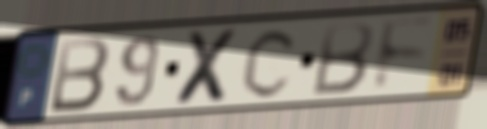9: (111, 33, 162, 111)
B: (46, 34, 113, 116), (308, 19, 377, 98)
C: (238, 25, 301, 101)
F: (372, 15, 439, 97)
X: (172, 26, 244, 108)
